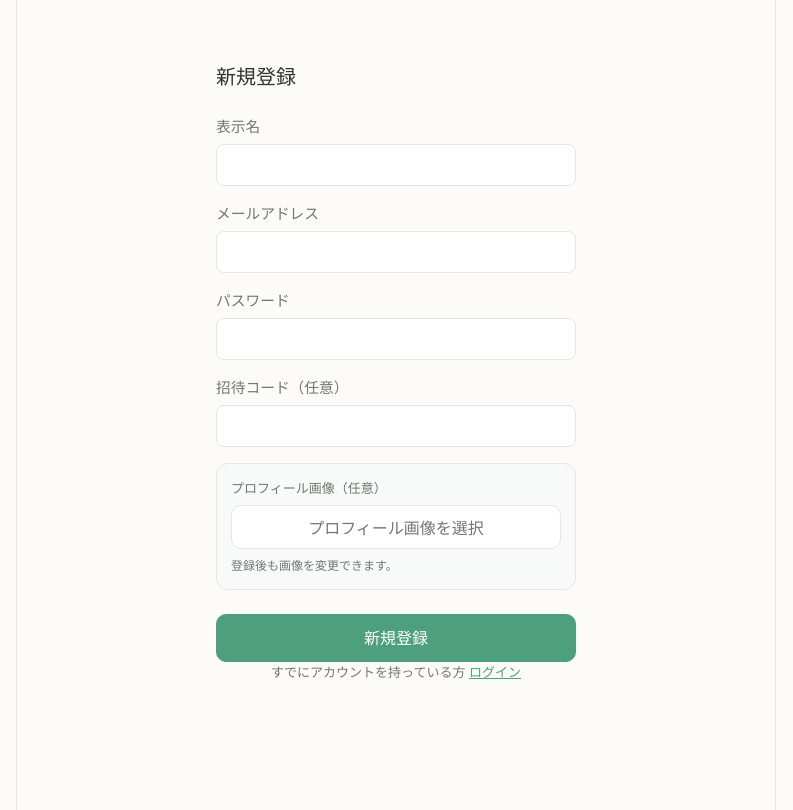
Test: M6 auth and household entry › validates an optional invite before registering
The image size is (793, 810).
Expected: the heading "新規登録" is shown, [216,65,296,89]
Type "さや" into the field labelled "表示名". click: (396, 165)
box: [216,144,576,186]
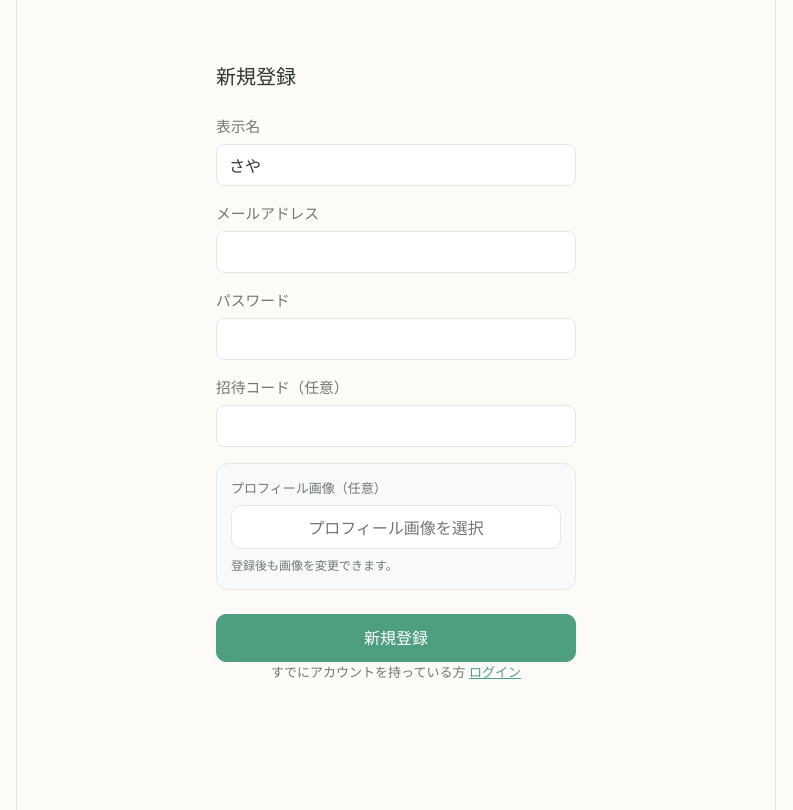
Type "new@example.com" into the field labelled "メールアドレス". click: (396, 252)
box: [216,231,576,273]
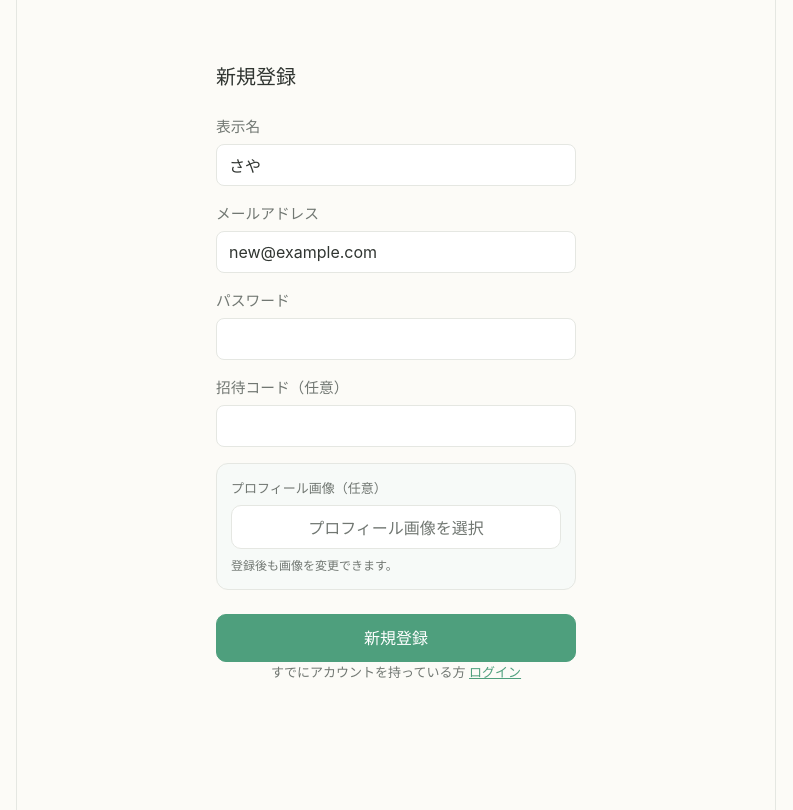
Type "very-long-password" into the password field labelled "パスワード". click: (396, 339)
box: [216,318,576,360]
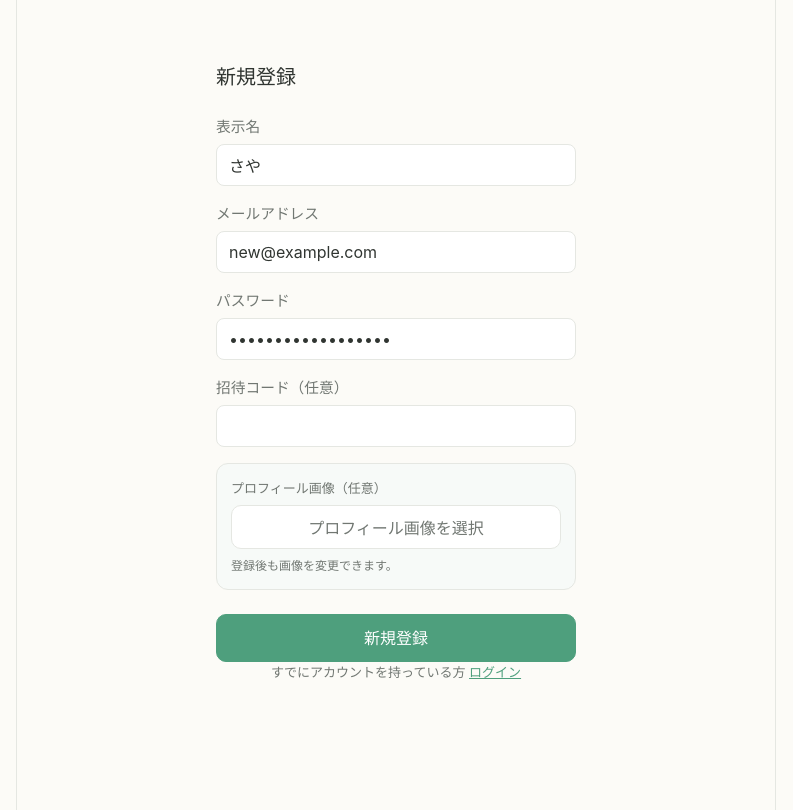
Type "INVALID" into the field labelled "招待コード（任意）". click: (396, 426)
box: [216,405,576,447]
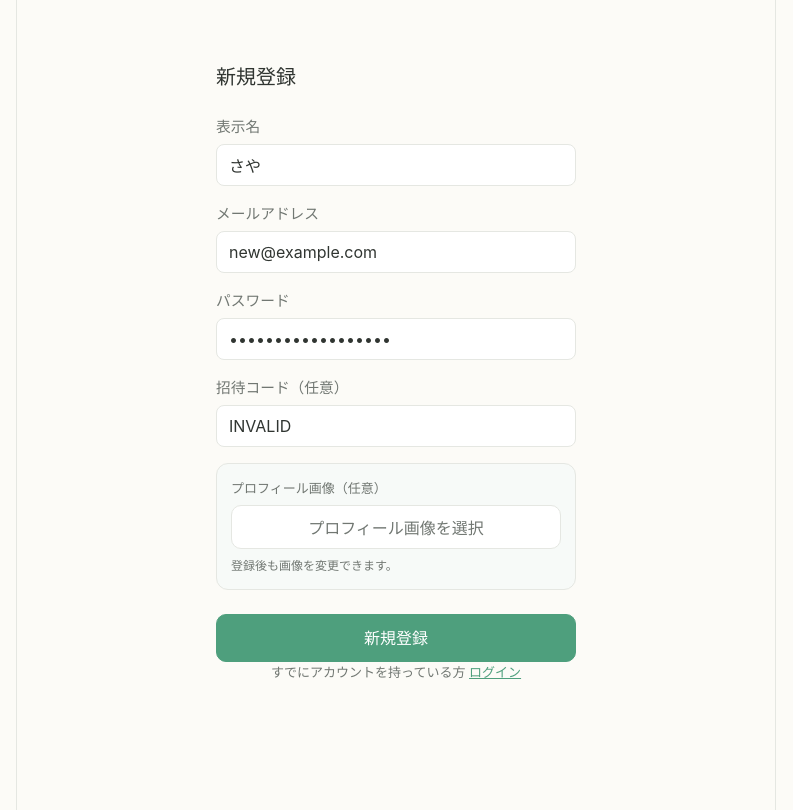
Click the button "新規登録". click: (396, 638)
box: [216,614,576,662]
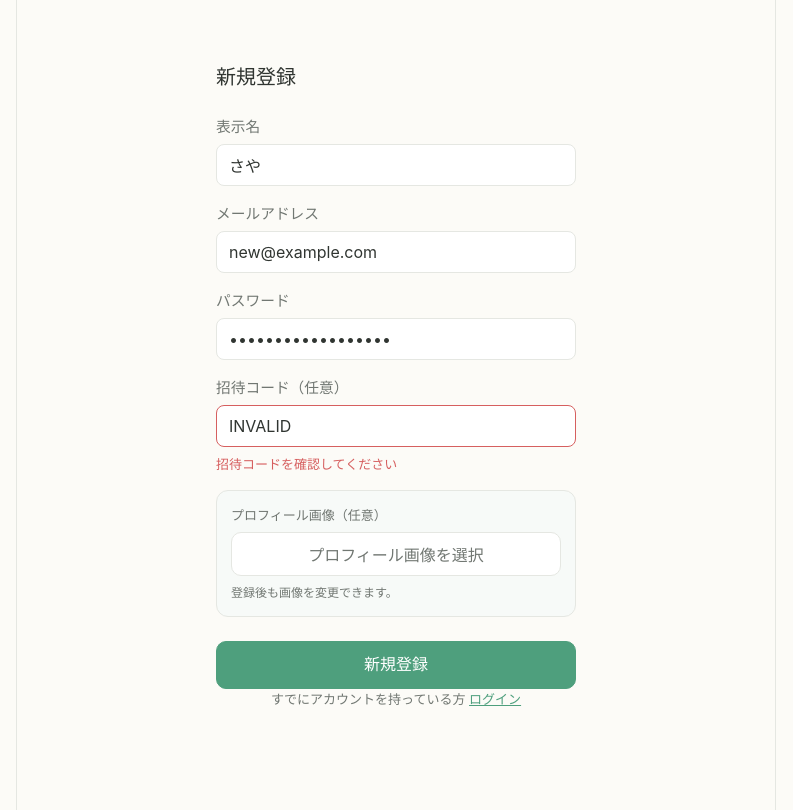
Expected: the message reads "招待コードを確認してください", [216,456,397,472]
Replace the text in the field labelled "招待コード（任意）" with "VALID". click: (396, 426)
box: [216,405,576,447]
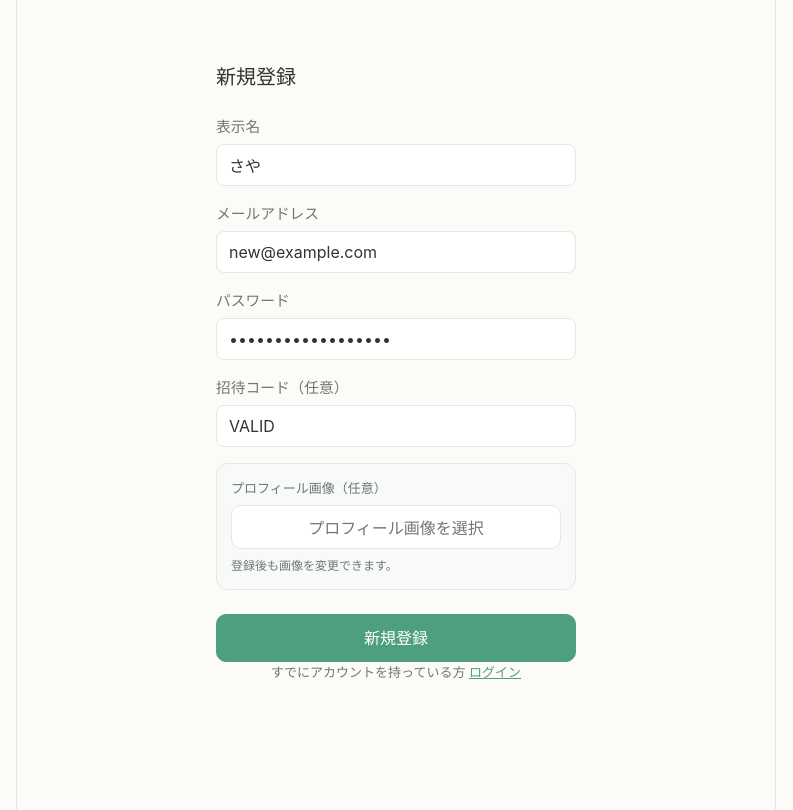
Expected: the message "招待コードを確認してください" is gone
